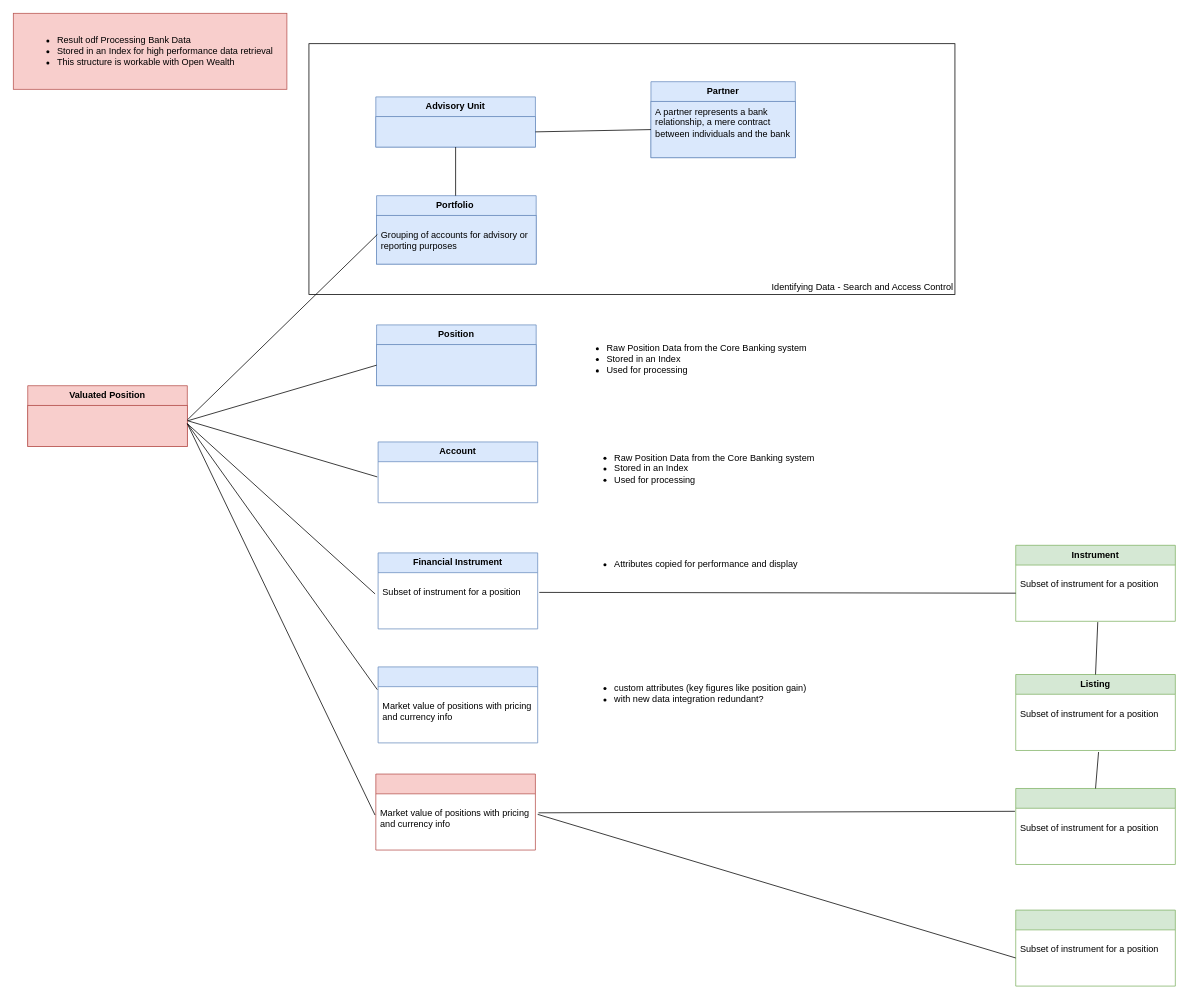
The diagram is 1189 pixels wide and 1002 high, and some of its shapes have lost their labels. Each missing label, with the box of its shape:
Additional Position Data: (377, 666, 538, 743)
An advisoryUnit represents a unit, which is advised through an advisor.: (375, 116, 535, 147)
Bounded Context Definition -: (27, 405, 187, 446)
Exchange rate: (1015, 909, 1175, 986)
Quote: (1015, 788, 1175, 864)
Valuation: (375, 773, 535, 850)
